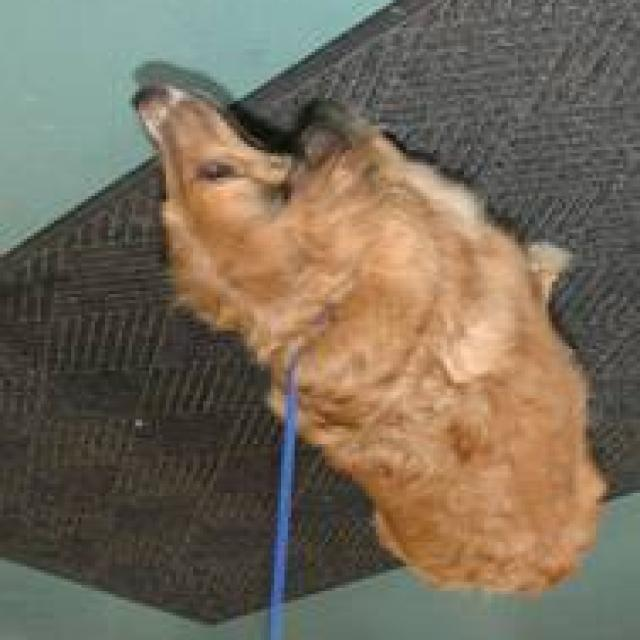dog: (128, 70, 616, 600)
